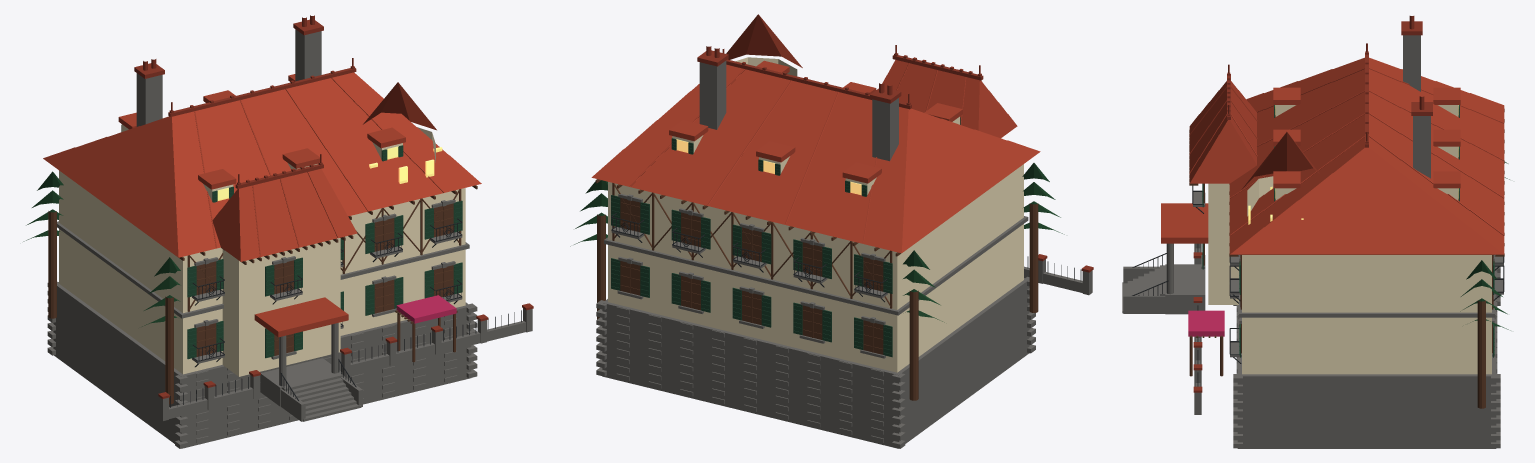
File: fv_thd_07_villa_20_normandy_turret.glb
The picture shows the model from 3 angles, left to right: view 1: azimuth 30°, elevation 25°; view 2: azimuth 150°, elevation 25°; view 3: azimuth 270°, elevation 25°; orthographic projection. The views are drawn at different scales.
Visible parts, largest first — view 1: marseille_corrugated_roof_tiles, granite_foundation_and_stairs, stucco_facade_and_dormers, colombage_timber_and_eaves, pine_green_louvered_shutters, ridge_cresting_and_chimneys, wrought_iron_balconies_3d, pine_trees_and_garden_hedges, bougainvillea_pergola_clusters, warm_night_windows_ffb86c; view 2: marseille_corrugated_roof_tiles, granite_foundation_and_stairs, stucco_facade_and_dormers, colombage_timber_and_eaves, pine_green_louvered_shutters, ridge_cresting_and_chimneys, pine_trees_and_garden_hedges, wrought_iron_balconies_3d; view 3: marseille_corrugated_roof_tiles, stucco_facade_and_dormers, granite_foundation_and_stairs, colombage_timber_and_eaves, ridge_cresting_and_chimneys, bougainvillea_pergola_clusters, wrought_iron_balconies_3d, pine_trees_and_garden_hedges, pine_green_louvered_shutters.
Boxes of the visible parts, x1=… form: marseille_corrugated_roof_tiles: x1=43, y1=72, x2=481, y2=337; granite_foundation_and_stairs: x1=47, y1=29, x2=532, y2=448; stucco_facade_and_dormers: x1=59, y1=124, x2=465, y2=376; colombage_timber_and_eaves: x1=48, y1=185, x2=477, y2=404; pine_green_louvered_shutters: x1=121, y1=125, x2=462, y2=359; ridge_cresting_and_chimneys: x1=134, y1=15, x2=533, y2=398; wrought_iron_balconies_3d: x1=170, y1=218, x2=521, y2=407; pine_trees_and_garden_hedges: x1=23, y1=171, x2=180, y2=326; bougainvillea_pergola_clusters: x1=396, y1=295, x2=456, y2=323; warm_night_windows_ffb86c: x1=217, y1=146, x2=442, y2=200; marseille_corrugated_roof_tiles: x1=591, y1=14, x2=1040, y2=253; granite_foundation_and_stairs: x1=596, y1=60, x2=1092, y2=448; stucco_facade_and_dormers: x1=608, y1=57, x2=1023, y2=372; colombage_timber_and_eaves: x1=595, y1=179, x2=1038, y2=400; pine_green_louvered_shutters: x1=611, y1=117, x2=960, y2=357; ridge_cresting_and_chimneys: x1=697, y1=45, x2=1093, y2=272; pine_trees_and_garden_hedges: x1=570, y1=163, x2=1064, y2=322; wrought_iron_balconies_3d: x1=611, y1=213, x2=1081, y2=302; marseille_corrugated_roof_tiles: x1=1161, y1=57, x2=1504, y2=254; stucco_facade_and_dormers: x1=1208, y1=105, x2=1491, y2=374; granite_foundation_and_stairs: x1=1122, y1=35, x2=1503, y2=448; colombage_timber_and_eaves: x1=1189, y1=109, x2=1504, y2=408; ridge_cresting_and_chimneys: x1=1193, y1=16, x2=1432, y2=392; bougainvillea_pergola_clusters: x1=1188, y1=310, x2=1224, y2=336; wrought_iron_balconies_3d: x1=1132, y1=185, x2=1504, y2=386; pine_trees_and_garden_hedges: x1=1460, y1=162, x2=1510, y2=330; pine_green_louvered_shutters: x1=1202, y1=105, x2=1494, y2=357.
Bounding box in the file's own units: 25.68 × 20.63 × 23.59.
